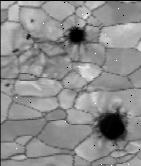good_void: (93, 111, 130, 145), (63, 23, 88, 48), (11, 45, 20, 56), (28, 15, 35, 27), (2, 80, 11, 88), (25, 29, 30, 41), (37, 46, 42, 55)
